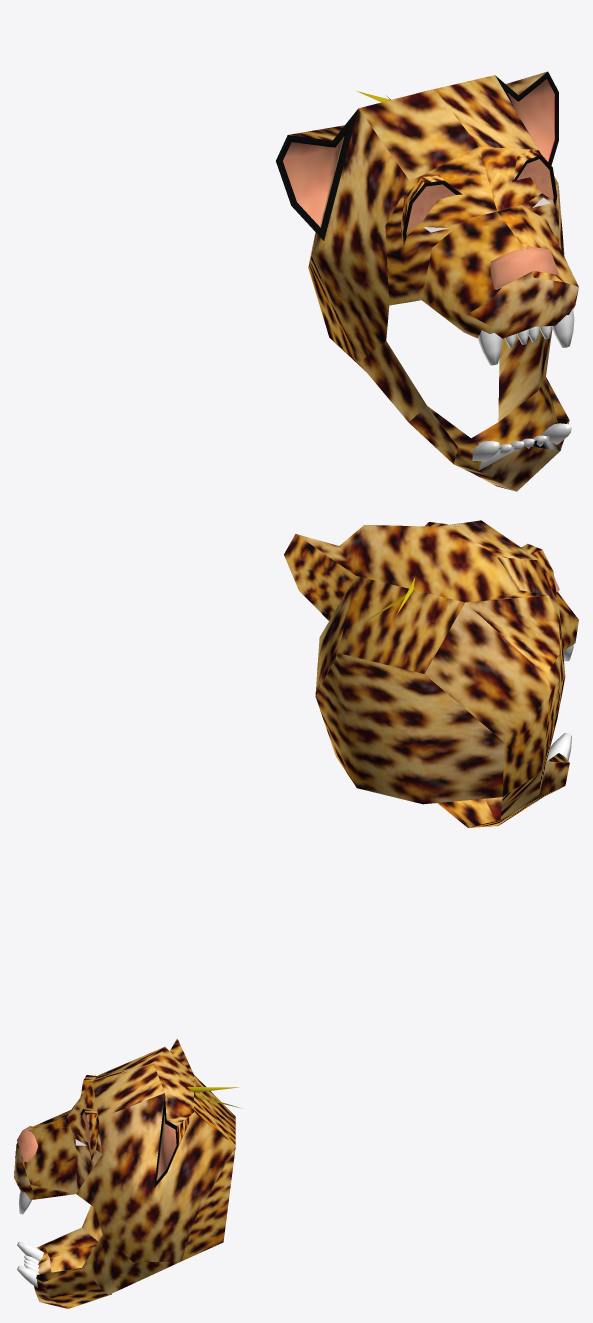
The model's file is helmet_jaguar.dae.
3 views of the same model, one above another, from view 1: azimuth 30°, elevation 25°; view 2: azimuth 150°, elevation 25°; view 3: azimuth 270°, elevation 25° (orthographic). The views are drawn at different scales.
Visible parts, largest first — view 1: mixtec_jaguar.002; view 2: mixtec_jaguar.002; view 3: mixtec_jaguar.002.
Part boxes in pixels (<box>): mixtec_jaguar.002: <box>276,71,578,491</box>; mixtec_jaguar.002: <box>284,520,578,827</box>; mixtec_jaguar.002: <box>14,1038,239,1308</box>.
Size of the model in its own units: 0.7946 by 1.83 by 0.8741.
